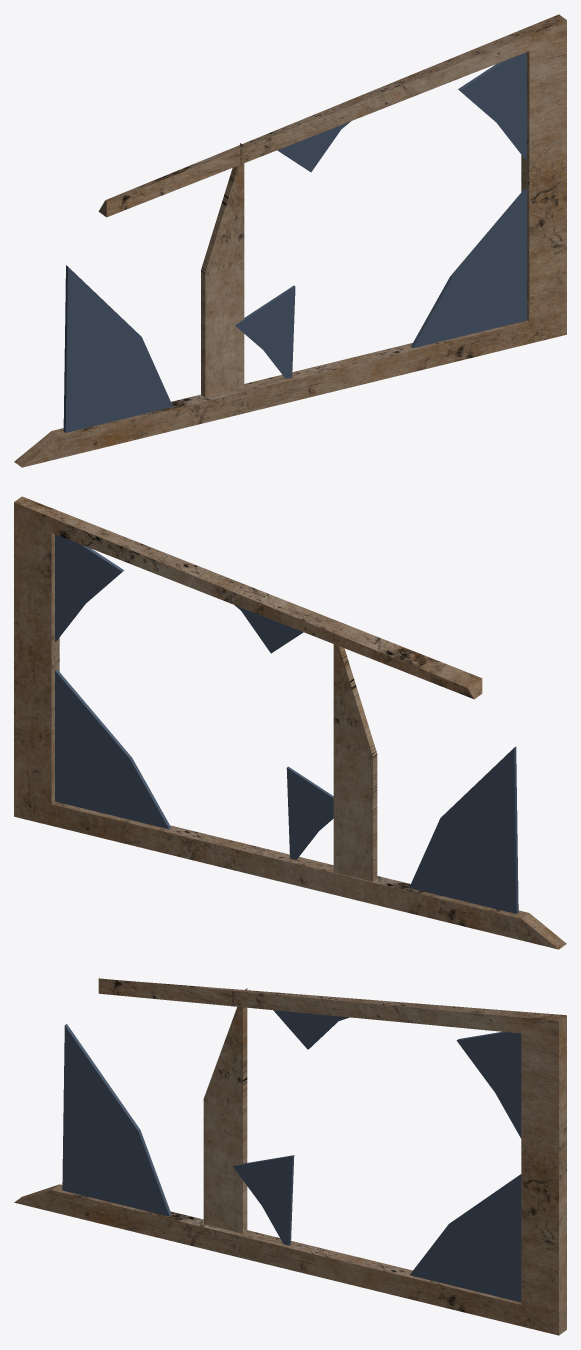
The model's file is janela_casa1_TEXTURIZADO.fbx.
The picture shows the model from 3 angles, top to bottom: view 1: azimuth 30°, elevation 25°; view 2: azimuth 150°, elevation 25°; view 3: azimuth 330°, elevation 25°; orthographic projection.
Visible parts, largest first — view 1: janela; view 2: janela; view 3: janela.
Boxes of the visible parts, x1,y1,x2,y2 form: janela: [14, 14, 566, 467]; janela: [14, 496, 566, 949]; janela: [14, 978, 566, 1335].
Size of the model in its own units: 203 by 112 by 5.16.
Materials: 1 (1 with a texture image).
